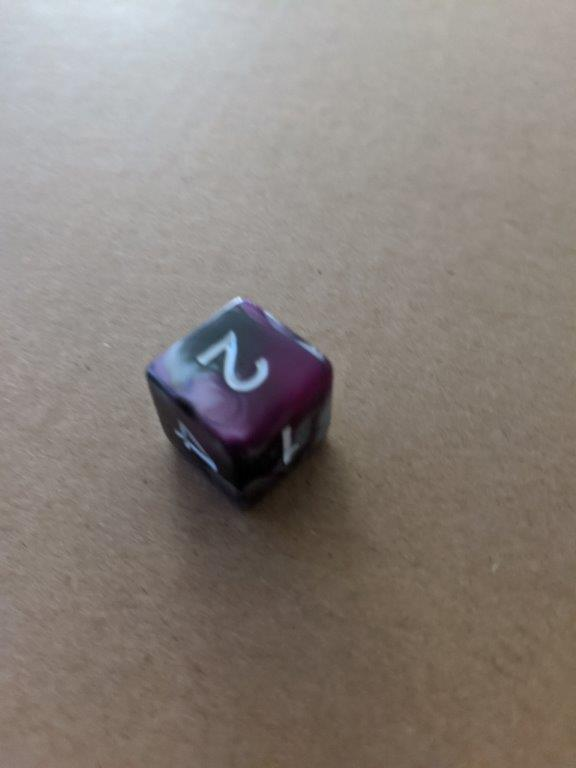d6-2: (148, 295, 333, 510)
